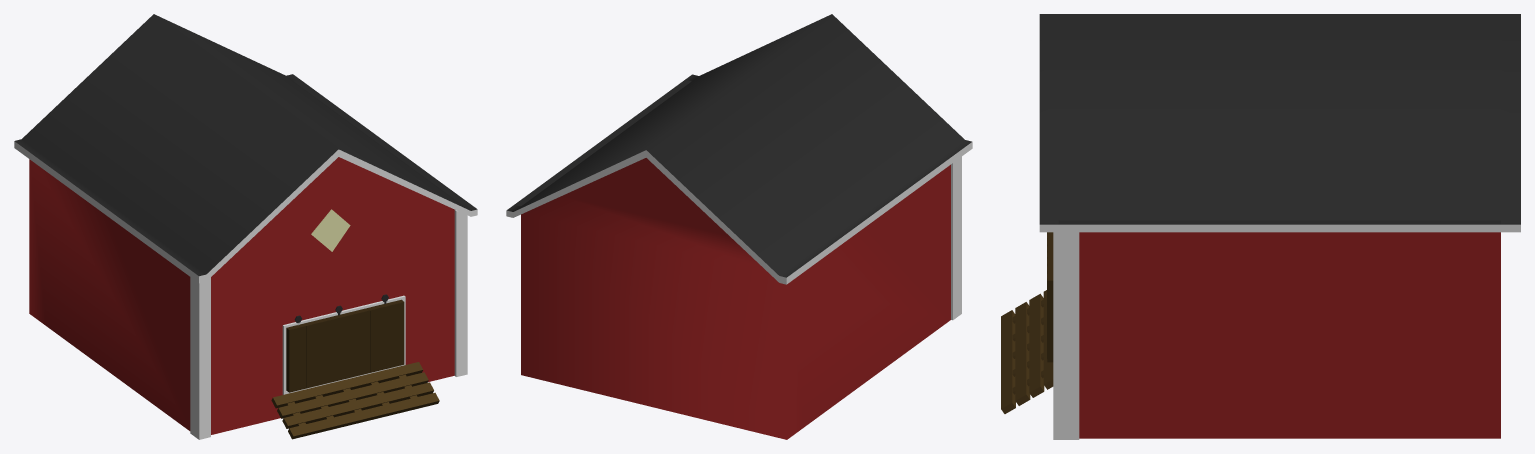
The model's file is building_barn_house.fbx.
3 renders of one model, left to right at view 1: azimuth 30°, elevation 25°; view 2: azimuth 150°, elevation 25°; view 3: azimuth 270°, elevation 25°, orthographic. The views are drawn at different scales.
Parts seen in each view (by area): view 1: Barn, Door; view 2: Barn; view 3: Barn, Door.
Boxes of the visible parts, x1,y1,x2,y2 form: Barn: (14,14,477,439); Door: (286,294,404,392); Barn: (506,14,972,439); Barn: (1001,14,1520,439); Door: (1047,232,1053,362).
Size of the model in its own units: 400 by 365 by 497.
